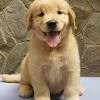Golden Retriever: (16, 1, 95, 99)
